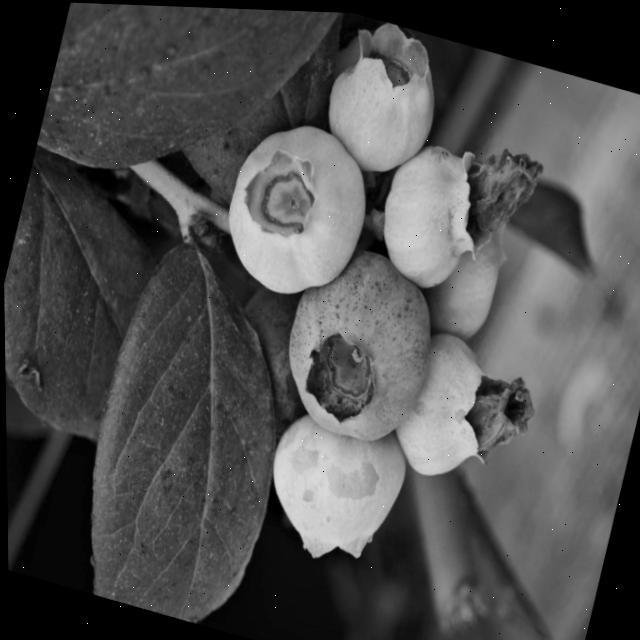RipeBlueBerry: (266, 230, 454, 454)
UnripeBlueBerry: (206, 100, 387, 313), (247, 401, 418, 575), (313, 15, 453, 184), (365, 127, 503, 296), (389, 320, 520, 492)
